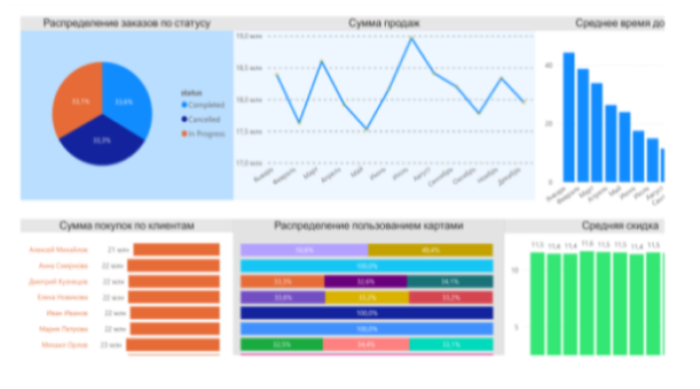

The dashboard page shown, as its layout file describes it:
{"tool":"powerbi","page":{"name":"Страница 1","canvas":[1280,720],"ordinal":0},"visuals":[{"type":"pieChart","title":"Распределение заказов по статусу","fields":{"Category":["my_schema orders.status"],"Y":["CountNonNull(my_schema orders.status)"]},"box":[0,0,380,317],"z":0},{"type":"lineChart","title":"Сумма продаж","fields":{"Category":["my_schema orders.order_date.Изменение.Иерархия дат.Месяц"],"Y":["Sum(my_schema orders.total_amount)"]},"box":[380,0,541,317],"z":1000},{"type":"clusteredBarChart","title":"Сумма покупок по клиентам","fields":{"Category":["my_schema customers.name"],"Y":["Sum(my_schema orders.total_amount)"]},"box":[0,350,380,350],"z":2000},{"type":"clusteredColumnChart","title":"Среднее время доставки","fields":{"Category":["orders.order_date.Изменение.Иерархия дат.Месяц"],"Y":["customers.СредняяРазница"]},"box":[921,0,359,350],"z":3000},{"type":"clusteredColumnChart","title":"Средняя скидка","fields":{"Category":["orders.order_date.Изменение.Иерархия дат.Месяц"],"Y":["customers.Средняя скидка"]},"box":[865,349.7,414.7,349.7],"z":4000},{"type":"hundredPercentStackedBarChart","title":"Распределение пользованием картами","fields":{"Category":["customers.name"],"Y":["Sum(orders.total_amount)"],"Series":["orders.gift_card_id"]},"box":[380.4,349.7,484.7,349.7],"z":5000}]}

Visuals, with their boxes in screenshot pixels (x1, y1, x2, y2), scaled from the page's 1280x720 canvas onto the 700x389 screenshot:
"Распределение заказов по статусу" pieChart: select_region(0, 0, 208, 171)
"Сумма продаж" lineChart: select_region(208, 0, 504, 171)
"Сумма покупок по клиентам" clusteredBarChart: select_region(0, 189, 208, 378)
"Среднее время доставки" clusteredColumnChart: select_region(504, 0, 699, 189)
"Средняя скидка" clusteredColumnChart: select_region(473, 189, 699, 378)
"Распределение пользованием картами" hundredPercentStackedBarChart: select_region(208, 189, 473, 378)
